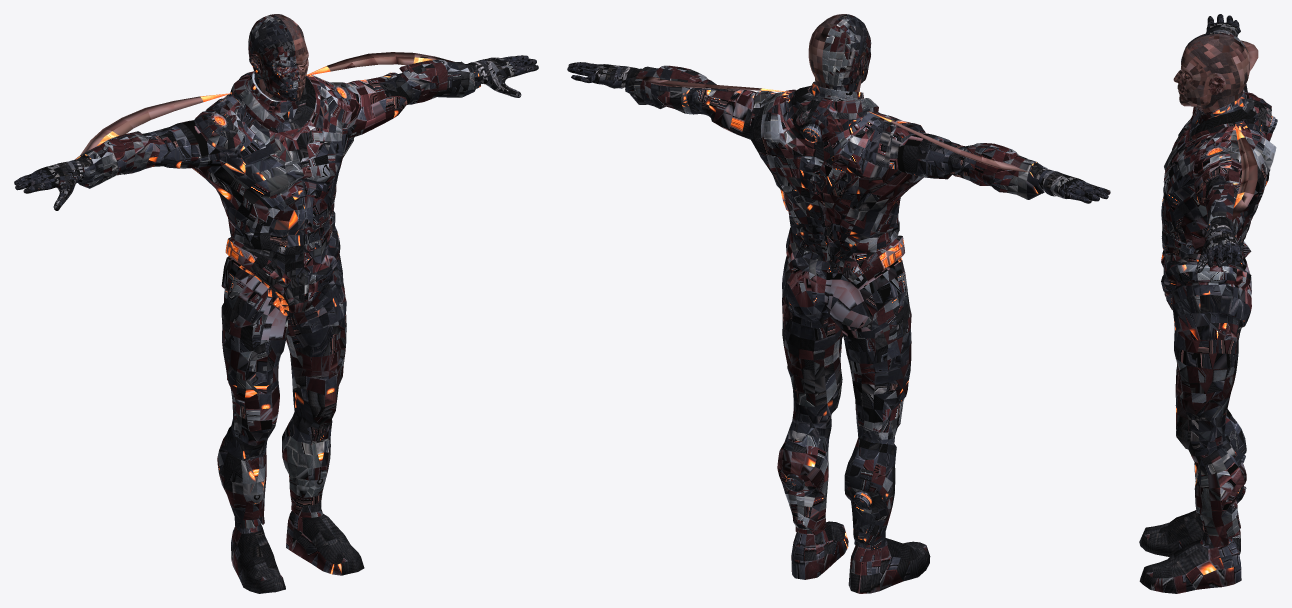
The model's file is Ely%20By%20K.Atienza.glb.
3 views of the same model, side by side, from view 1: azimuth 30°, elevation 25°; view 2: azimuth 150°, elevation 25°; view 3: azimuth 270°, elevation 25° (orthographic). The views are drawn at different scales.
Visible parts, largest first — view 1: ely_vanguardsoldier_kerwinatienza_Mesh; view 2: ely_vanguardsoldier_kerwinatienza_Mesh; view 3: ely_vanguardsoldier_kerwinatienza_Mesh.
Boxes of the visible parts, x1,y1,x2,y2 form: ely_vanguardsoldier_kerwinatienza_Mesh: (14, 14, 538, 593); ely_vanguardsoldier_kerwinatienza_Mesh: (567, 14, 1110, 593); ely_vanguardsoldier_kerwinatienza_Mesh: (1139, 14, 1277, 593).
Size of the model in its own units: 180 by 179 by 41.98.
Materials: 1 (1 with a texture image).
